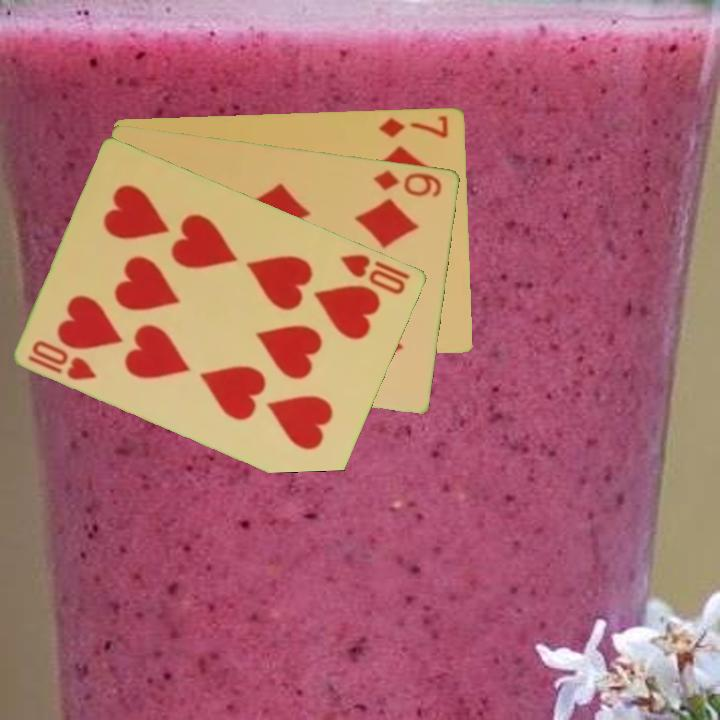10h: (337, 250, 414, 297), (25, 336, 100, 383)
6d: (370, 166, 445, 200)
7d: (376, 111, 452, 140)
